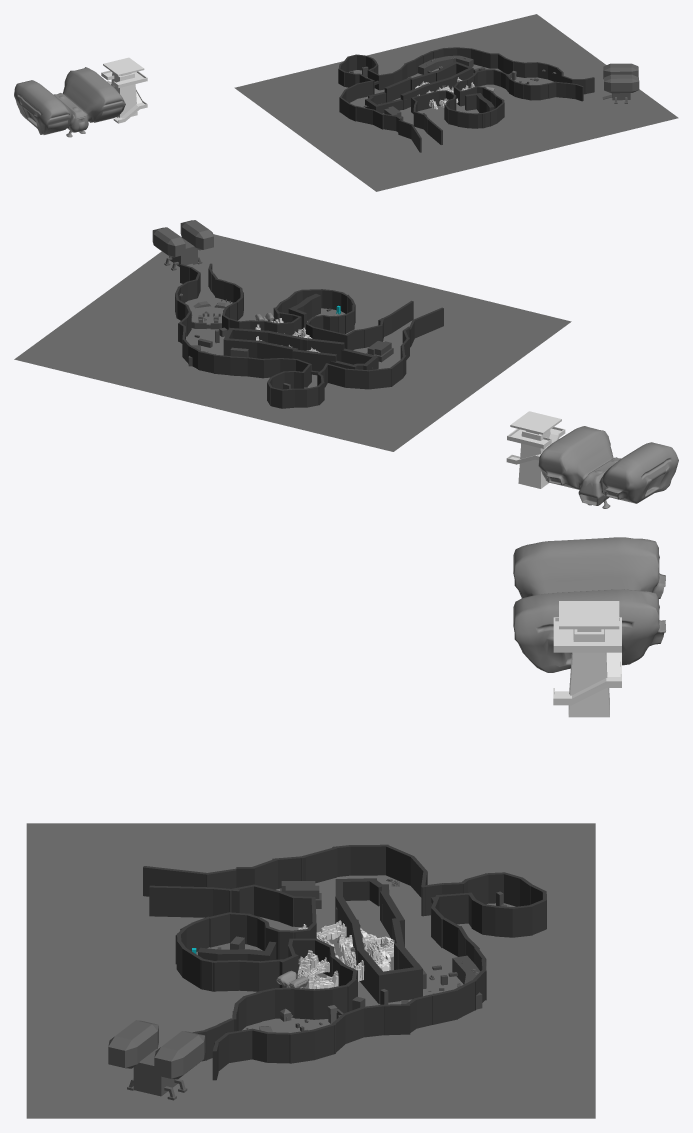
Rendered from Level_0.2.2.fbx.
The picture shows the model from 3 angles, top to bottom: view 1: azimuth 30°, elevation 25°; view 2: azimuth 150°, elevation 25°; view 3: azimuth 270°, elevation 25°; orthographic projection. The views are drawn at different scales.
Visible parts, largest first — view 1: Plane, spaceship, watch_tower, Spaceship, Cube.143, Cube.006, Cube.139; view 2: Plane, spaceship, watch_tower, Spaceship, Cube.097, Cube.143, Cube.139, Cube.141, Cube.138, Cube.140, Cube.089, Cube.088 (+1 smaller); view 3: Plane, spaceship, watch_tower, Spaceship, Cube, Cube.097, Cube.147, Cube.090, Cube.092, Cube.137.
Boxes of the visible parts, x1,y1,x2,y2 form: Plane: [234, 14, 678, 191]; spaceship: [14, 67, 125, 137]; watch_tower: [101, 57, 147, 123]; Spaceship: [602, 63, 639, 103]; Cube.143: [384, 77, 411, 102]; Cube.006: [411, 91, 438, 111]; Cube.139: [410, 70, 441, 90]; Plane: [14, 234, 571, 451]; spaceship: [538, 426, 678, 508]; watch_tower: [506, 411, 565, 488]; Spaceship: [152, 220, 213, 270]; Cube.097: [413, 307, 443, 338]; Cube.143: [292, 349, 336, 371]; Cube.139: [257, 342, 298, 358]; Cube.141: [300, 338, 344, 361]; Cube.138: [223, 338, 265, 358]; Cube.140: [268, 331, 308, 350]; Cube.089: [368, 367, 392, 389]; Cube.088: [345, 368, 368, 389]; Plane: [26, 823, 595, 1118]; spaceship: [513, 537, 665, 672]; watch_tower: [553, 601, 621, 717]; Spaceship: [108, 1020, 205, 1100]; Cube: [149, 885, 213, 917]; Cube.097: [143, 866, 208, 896]; Cube.147: [380, 966, 421, 1002]; Cube.090: [350, 844, 388, 875]; Cube.092: [299, 847, 337, 883]; Cube.137: [356, 948, 385, 1003].
Bounding box in the file's own units: 158326 × 14893 × 85705.
